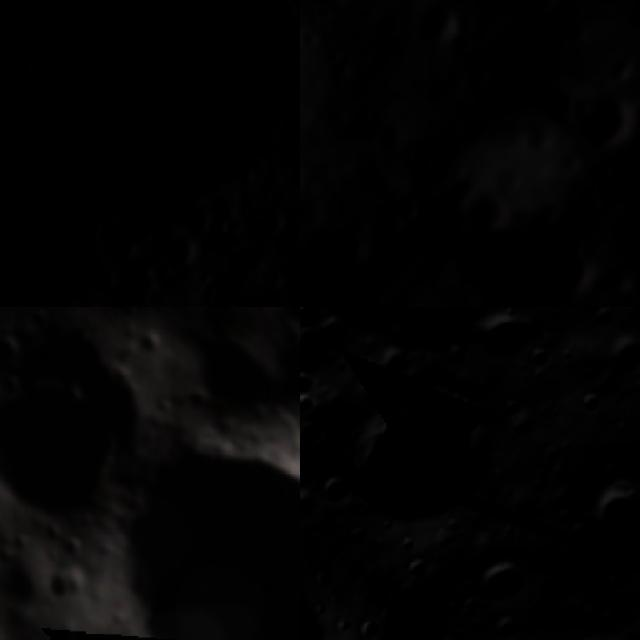crater: (75, 380, 300, 640), (316, 348, 522, 554), (0, 350, 149, 538), (330, 307, 539, 388), (190, 318, 297, 425), (551, 74, 640, 170), (522, 228, 611, 307), (464, 539, 542, 618), (571, 468, 640, 555), (463, 307, 544, 377), (446, 178, 517, 250), (419, 156, 486, 224), (256, 319, 300, 419), (317, 211, 380, 274), (399, 0, 460, 56), (38, 558, 98, 610), (307, 307, 364, 359), (366, 336, 418, 391), (358, 194, 412, 246), (482, 154, 534, 208), (306, 466, 355, 514), (496, 0, 571, 30), (599, 329, 640, 381), (383, 186, 429, 232), (566, 381, 612, 426), (131, 320, 175, 366), (559, 83, 601, 125), (520, 338, 560, 378), (198, 277, 246, 307), (494, 387, 530, 424), (300, 307, 336, 343), (400, 550, 435, 586), (300, 0, 363, 18), (585, 307, 622, 335), (25, 307, 59, 333), (275, 307, 300, 339), (300, 485, 321, 522), (300, 361, 317, 404), (300, 385, 320, 421), (552, 632, 640, 640)
